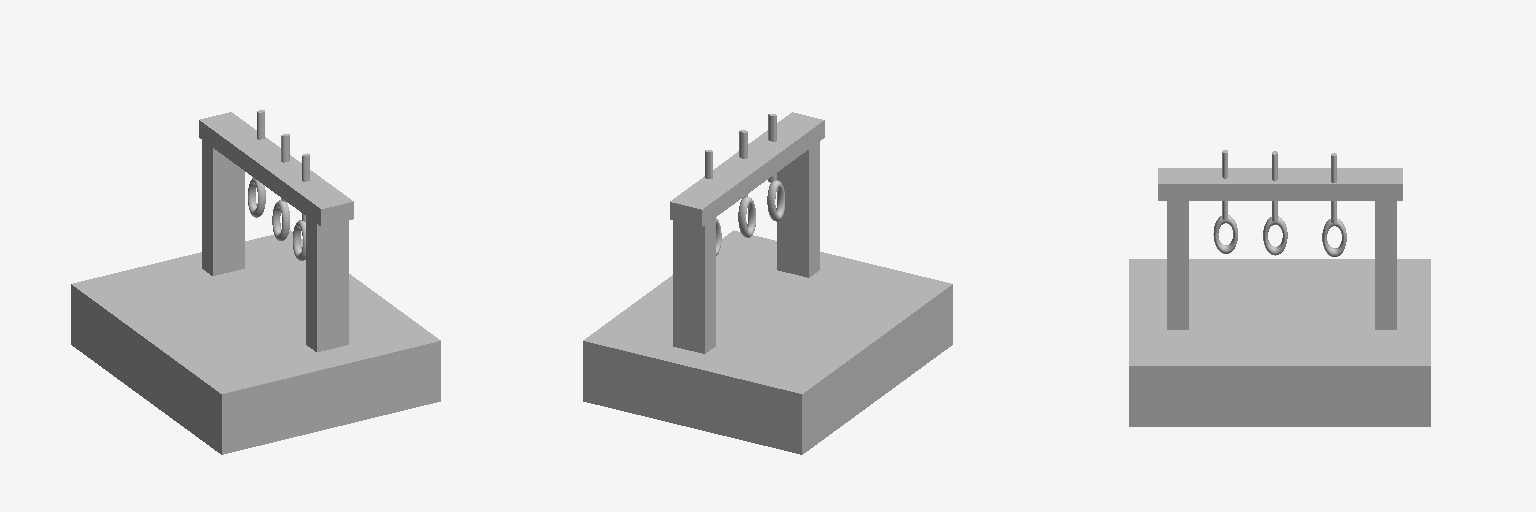
Rendered from gallows.obj.
The picture shows the model from 3 angles: view 1: azimuth 30°, elevation 25°; view 2: azimuth 150°, elevation 25°; view 3: azimuth 270°, elevation 25°; orthographic projection.
Parts seen in each view (by area): view 1: Cube, Cube.003, Cube.001, Cube.002, BézierCircle.003, BézierCircle.006; view 2: Cube, Cube.003, Cube.002, Cube.001, BézierCircle.002, BézierCircle.003; view 3: Cube, Cube.003, Cube.001, Cube.002.
Boxes of the visible parts, x1,y1,x2,y2 form: Cube: [71, 230, 440, 454]; Cube.003: [199, 112, 353, 226]; Cube.001: [306, 207, 348, 351]; Cube.002: [202, 128, 244, 275]; BézierCircle.003: [272, 200, 289, 240]; BézierCircle.006: [248, 177, 265, 217]; Cube: [583, 230, 952, 454]; Cube.003: [670, 112, 824, 226]; Cube.002: [673, 205, 715, 353]; Cube.001: [777, 134, 819, 277]; BézierCircle.002: [767, 180, 784, 221]; BézierCircle.003: [738, 197, 755, 237]; Cube: [1129, 259, 1430, 426]; Cube.003: [1158, 168, 1402, 200]; Cube.001: [1167, 189, 1188, 329]; Cube.002: [1375, 189, 1396, 329].
Size of the model in its own units: 14.42 by 14.69 by 17.15.